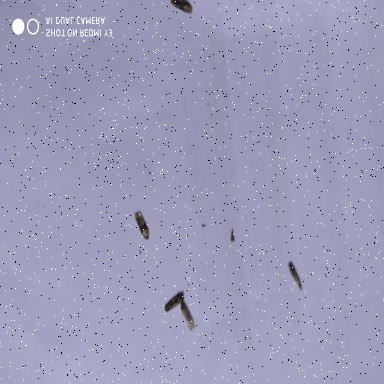pbw: (128, 204, 152, 242), (176, 298, 197, 336), (288, 258, 306, 294), (162, 290, 188, 314), (165, 2, 197, 20)
